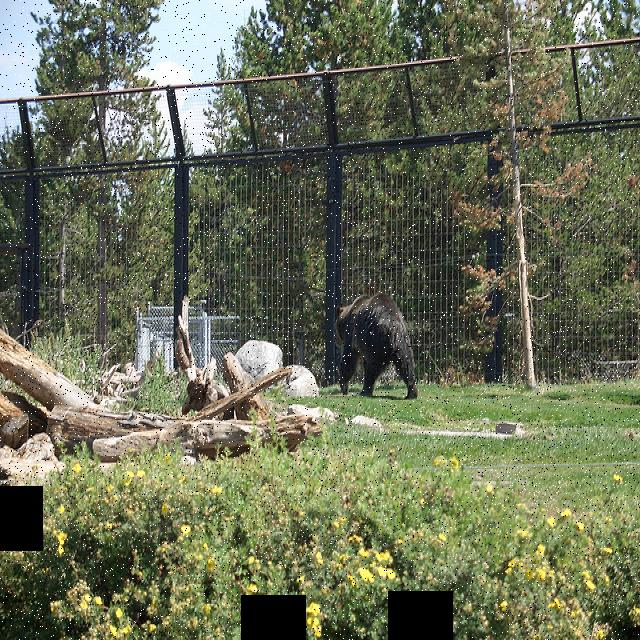Bear: (324, 289, 424, 396)
